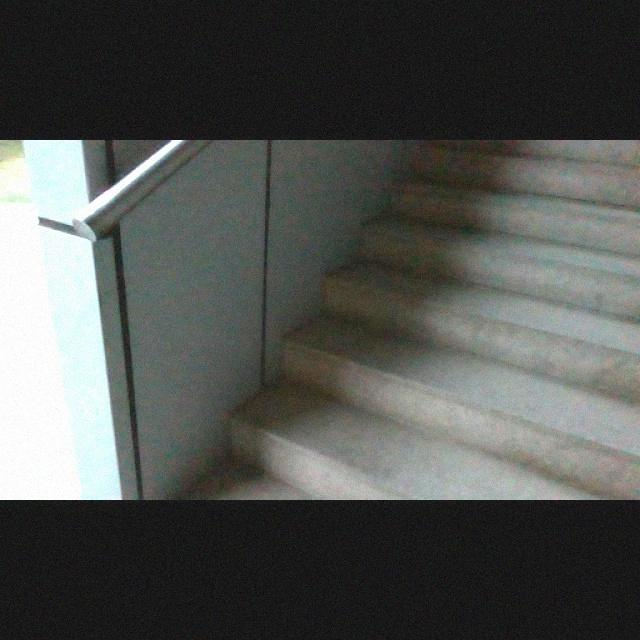stair: (220, 142, 638, 490)
